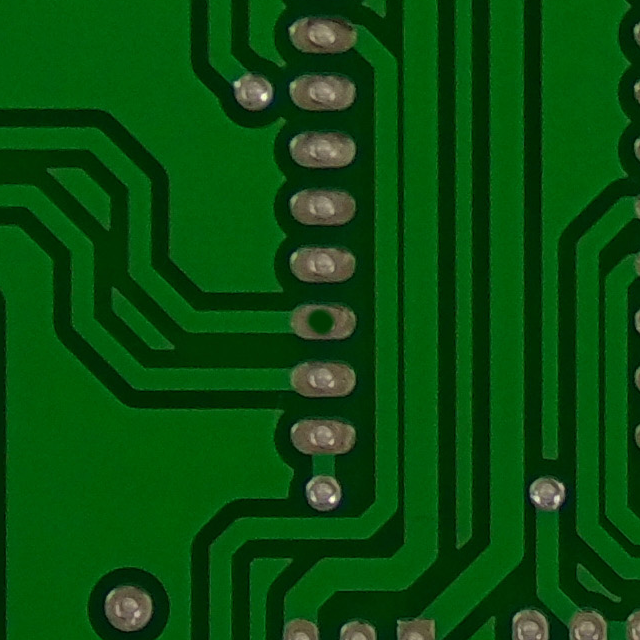missing_hole: (290, 288, 350, 352)
